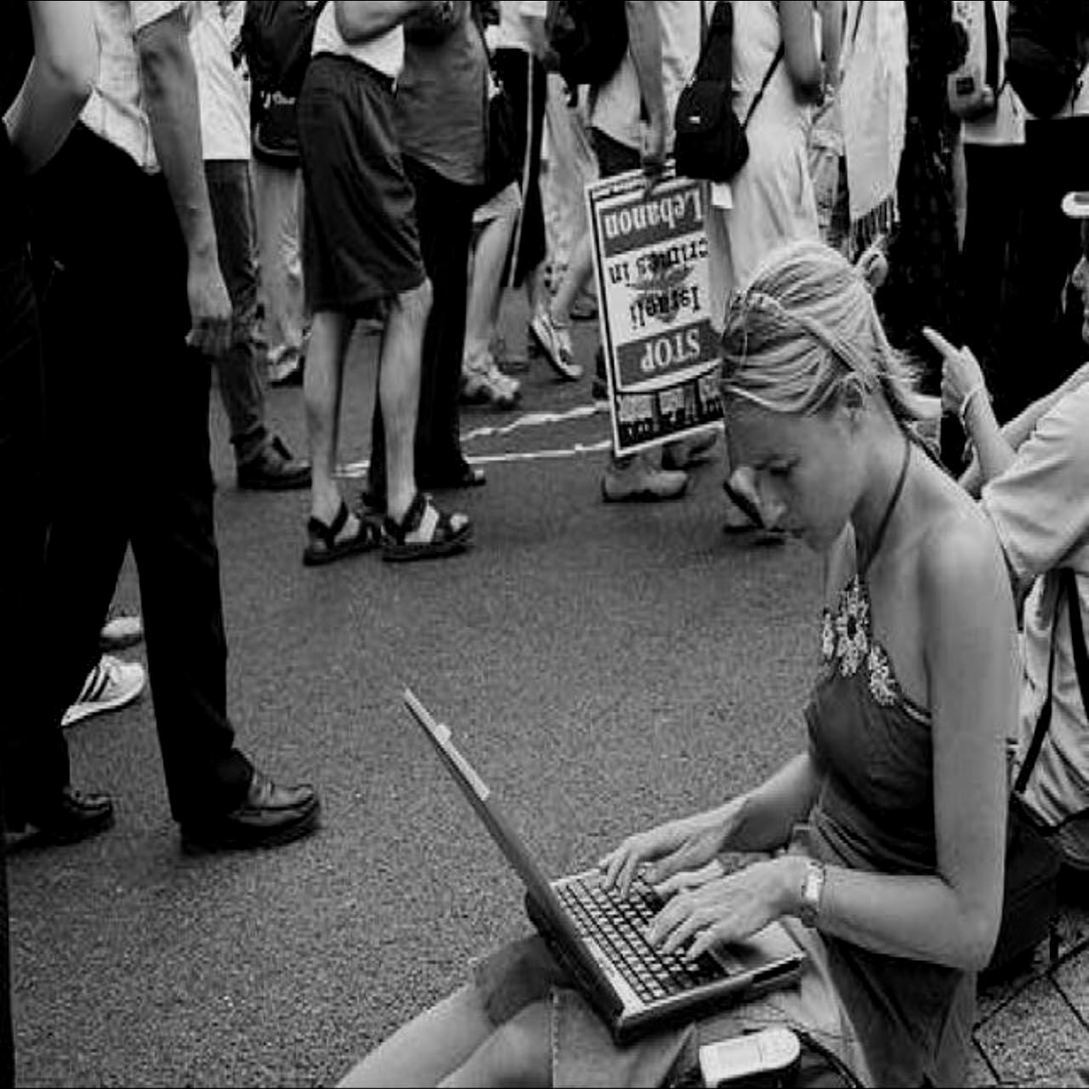laptop: (382, 698, 809, 1045)
